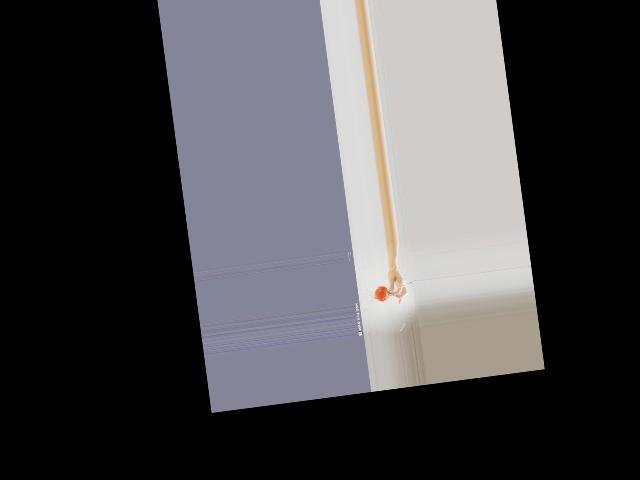tomato: (372, 284, 389, 301)
